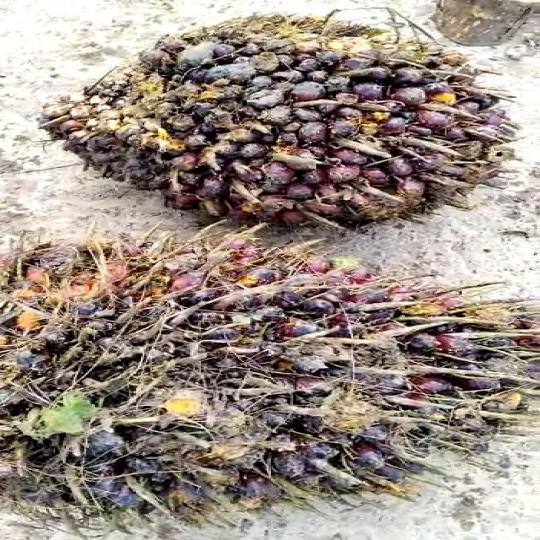kurang masak: (0, 233, 540, 537), (36, 18, 526, 240)
